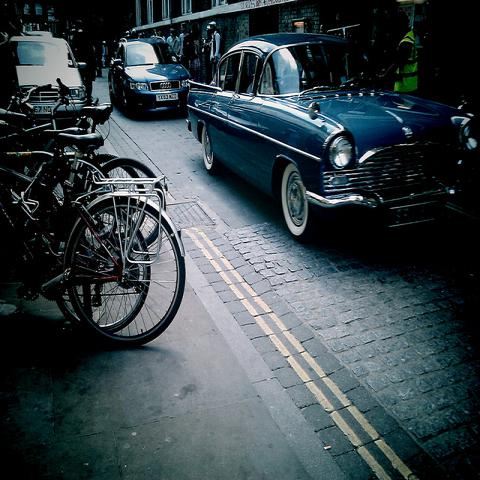car: (185, 31, 478, 242), (10, 37, 87, 123), (109, 35, 190, 114)
